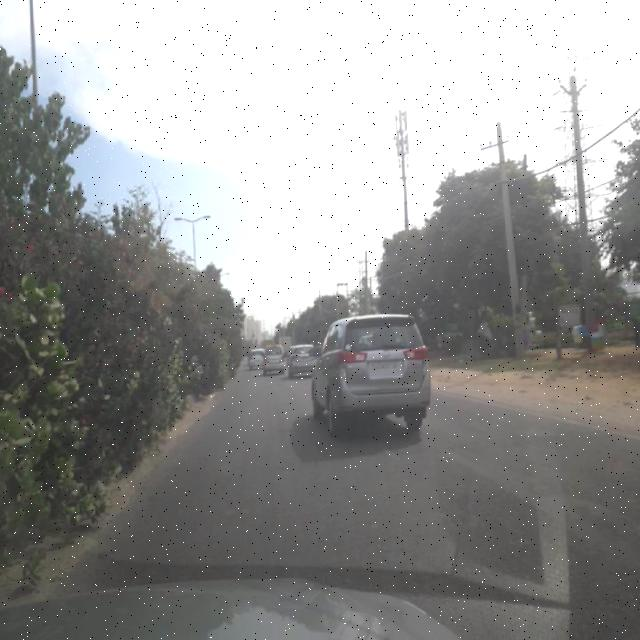D20: (135, 434, 622, 612)
